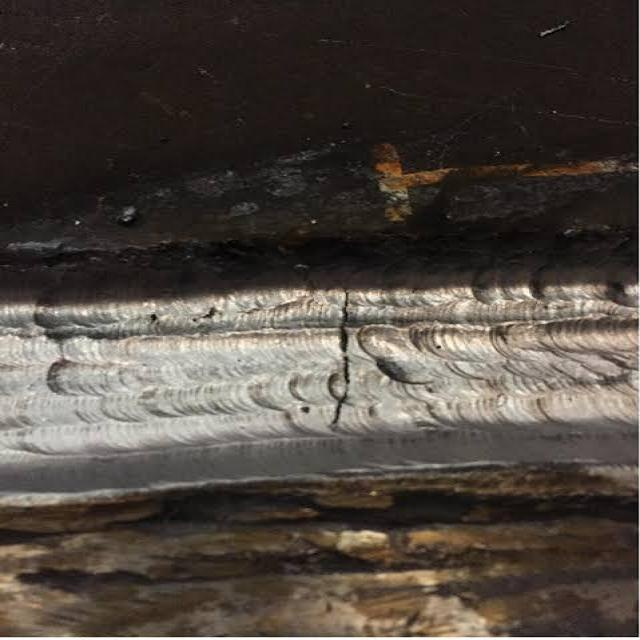Crack: (325, 276, 355, 430)
